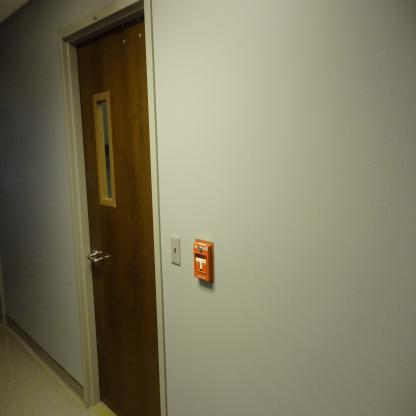door: (76, 14, 154, 415)
lever: (87, 249, 105, 267)
